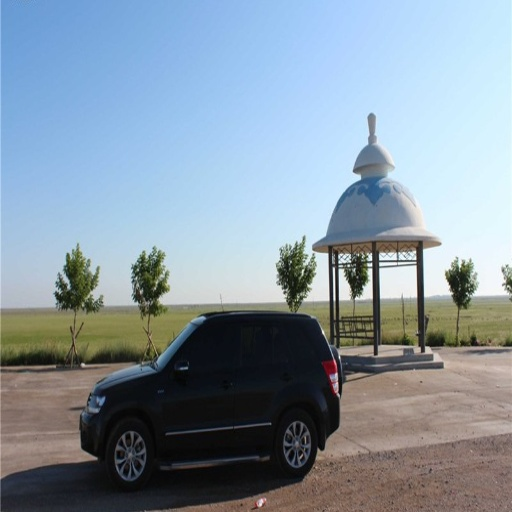back_left_door: (235, 318, 290, 449)
front_left_door: (162, 321, 243, 455)
